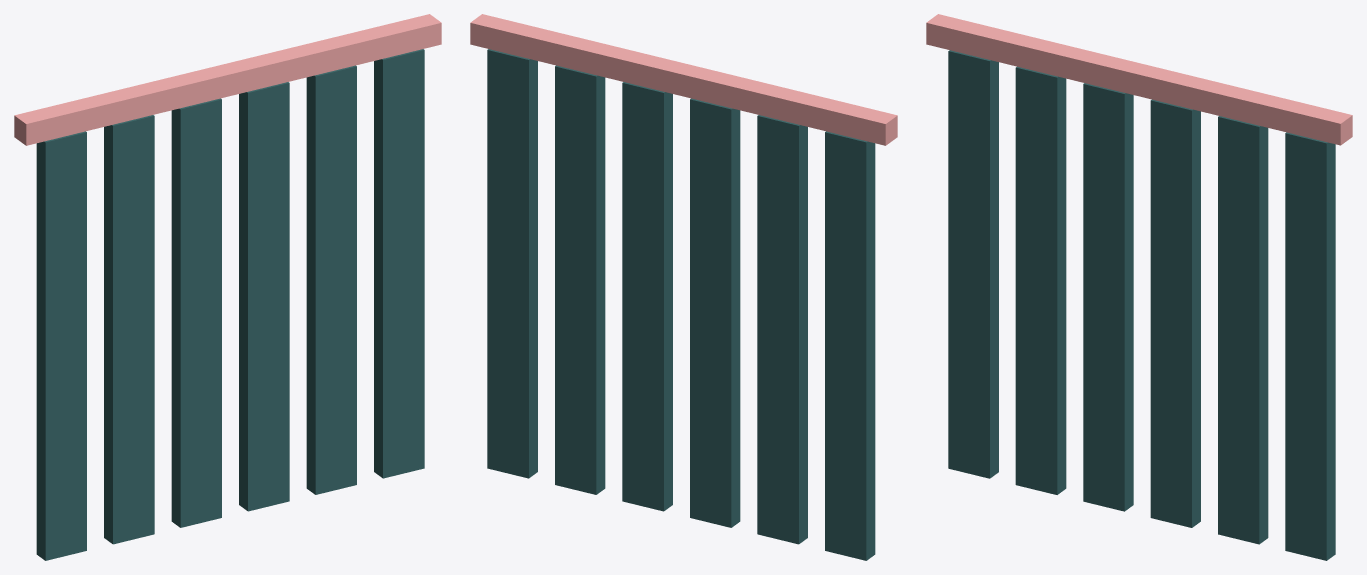
The model's file is window-blinds.obj.
The picture shows the model from 3 angles, left to right: view 1: azimuth 30°, elevation 25°; view 2: azimuth 150°, elevation 25°; view 3: azimuth 330°, elevation 25°; orthographic projection.
Parts seen in each view (by area): view 1: soft-fabric-panel-2, soft-fabric-panel-4, soft-fabric-panel-6, soft-fabric-panel-5, soft-fabric-panel-1, soft-fabric-panel-3, curtain-rod; view 2: soft-fabric-panel-2, soft-fabric-panel-4, soft-fabric-panel-6, soft-fabric-panel-5, soft-fabric-panel-1, soft-fabric-panel-3, curtain-rod; view 3: soft-fabric-panel-2, soft-fabric-panel-4, soft-fabric-panel-1, soft-fabric-panel-3, soft-fabric-panel-6, soft-fabric-panel-5, curtain-rod.
Part boxes in pixels (box(x1,y1,x2,y2)): soft-fabric-panel-2: box(104, 115, 154, 544); soft-fabric-panel-4: box(239, 82, 289, 511); soft-fabric-panel-6: box(374, 49, 424, 478); soft-fabric-panel-5: box(306, 65, 356, 494); soft-fabric-panel-1: box(36, 131, 86, 560); soft-fabric-panel-3: box(171, 98, 221, 527); curtain-rod: box(14, 14, 441, 145); soft-fabric-panel-2: box(757, 115, 807, 544); soft-fabric-panel-4: box(622, 82, 672, 511); soft-fabric-panel-6: box(487, 49, 537, 478); soft-fabric-panel-5: box(555, 65, 605, 494); soft-fabric-panel-1: box(825, 131, 875, 560); soft-fabric-panel-3: box(690, 98, 740, 527); curtain-rod: box(470, 14, 897, 145); soft-fabric-panel-2: box(1015, 66, 1066, 494); soft-fabric-panel-4: box(1150, 99, 1200, 527); soft-fabric-panel-1: box(948, 50, 998, 478); soft-fabric-panel-3: box(1083, 83, 1133, 511); soft-fabric-panel-6: box(1285, 132, 1335, 560); soft-fabric-panel-5: box(1218, 116, 1268, 544); curtain-rod: box(926, 14, 1352, 145).
Size of the model in its own units: 1.6 by 1.63 by 0.08.
